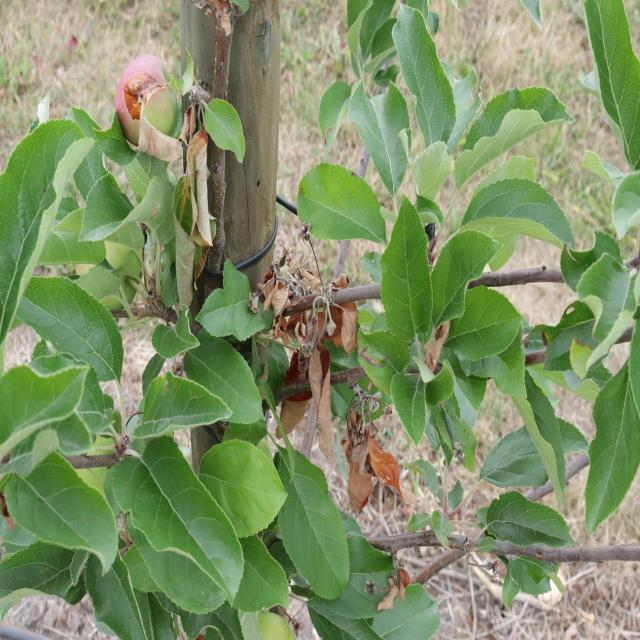-FireBlight-: (242, 246, 358, 340), (167, 98, 220, 250), (344, 390, 394, 509), (282, 338, 332, 456)
